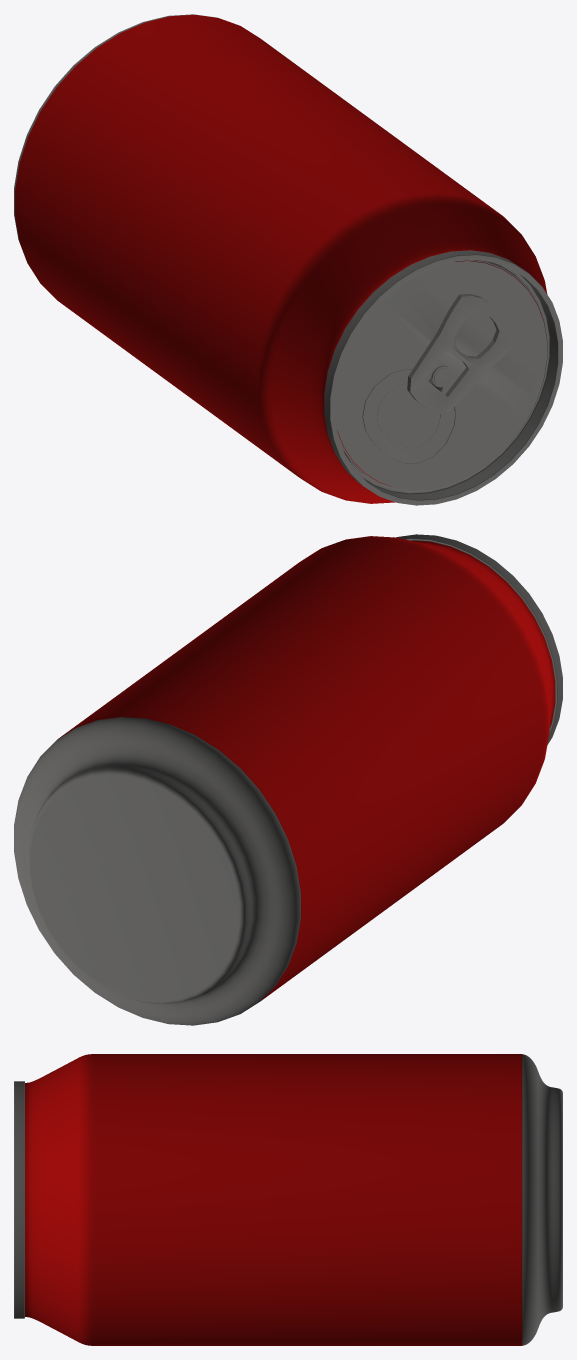
The model's file is model_scale.obj.
3 renders of one model, top to bottom at view 1: azimuth 30°, elevation 25°; view 2: azimuth 150°, elevation 25°; view 3: azimuth 270°, elevation 25°, orthographic. The views are drawn at different scales.
Visible parts, largest first — view 1: mesh19_mesh19-geometry, mesh20_mesh20-geometry; view 2: mesh19_mesh19-geometry, mesh20_mesh20-geometry; view 3: mesh19_mesh19-geometry, mesh20_mesh20-geometry.
Part boxes in pixels (x1=…): mesh19_mesh19-geometry: x1=14, y1=14, x2=547, y2=503; mesh20_mesh20-geometry: x1=324, y1=250, x2=562, y2=505; mesh19_mesh19-geometry: x1=14, y1=536, x2=555, y2=1025; mesh20_mesh20-geometry: x1=396, y1=534, x2=562, y2=744; mesh19_mesh19-geometry: x1=25, y1=1054, x2=562, y2=1345; mesh20_mesh20-geometry: x1=14, y1=1081, x2=24, y2=1318.
Bounding box in the file's own units: 0.0784 × 0.0784 × 0.148.
